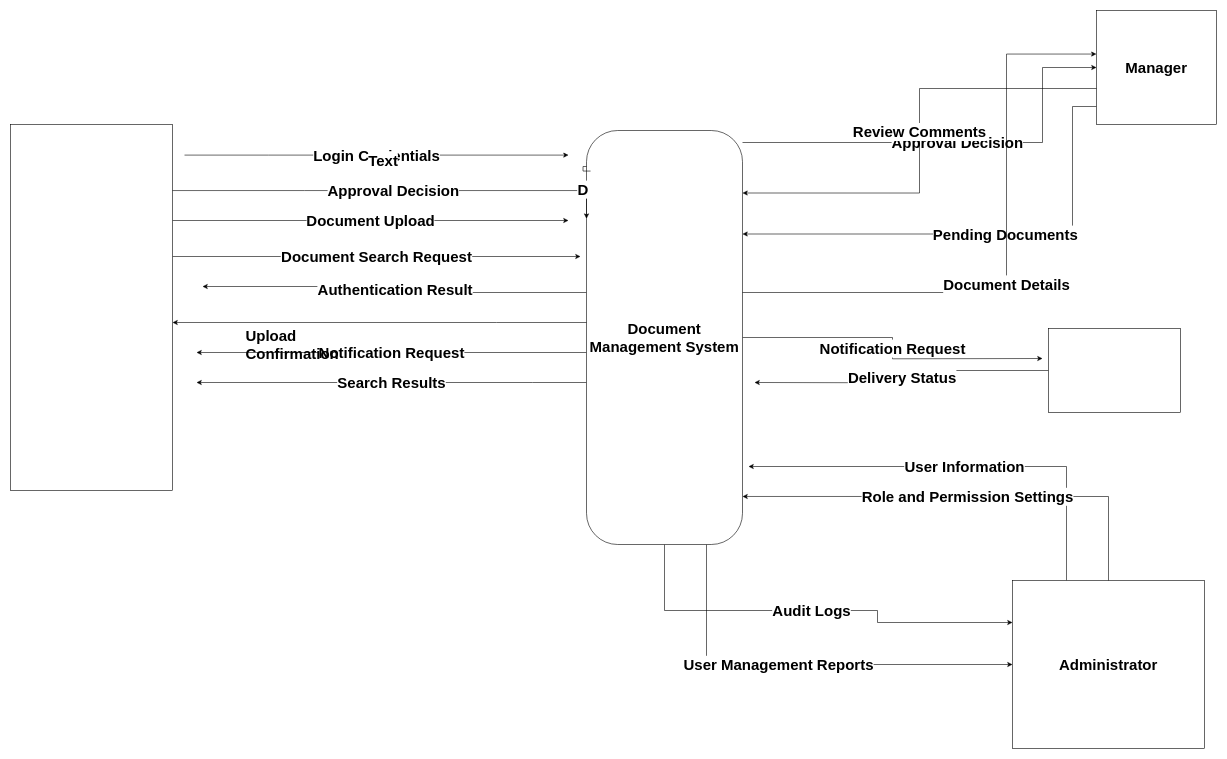
Some shapes in this 1227 by 759 pixel diagram are drawn without their labels. The shapes that lost their labels are listed below. From the top down, each one's box as (x1, y1, x2, y2) in pixels, then its label:
(10, 124, 172, 490): Employee
(1048, 328, 1180, 412): Notification Service
